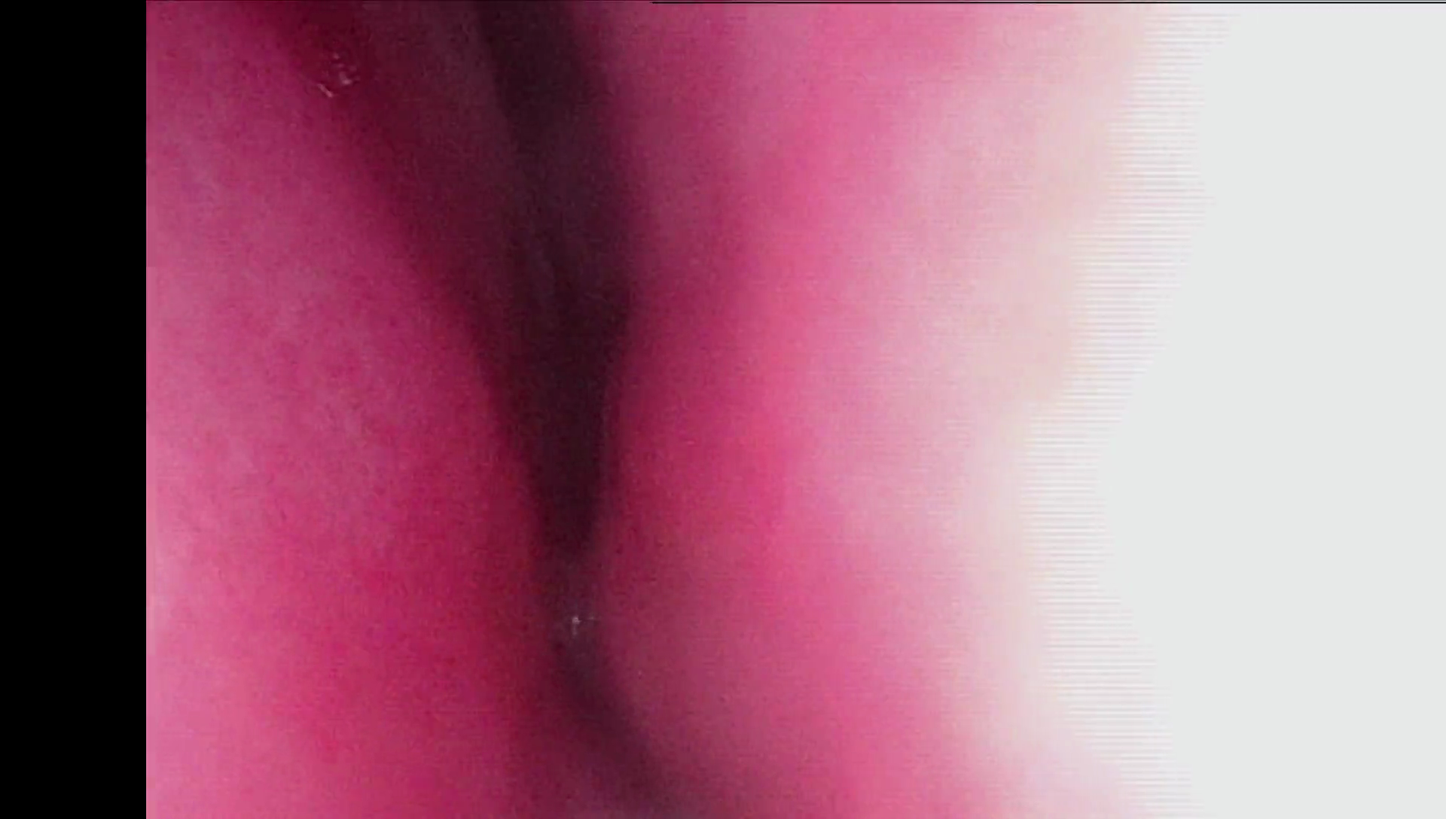close_wall: (810, 7, 1446, 819)
next: (431, 215, 678, 610), (451, 16, 670, 352)
